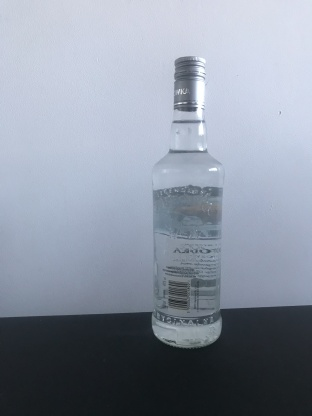nakretka: (172, 52, 207, 113)
